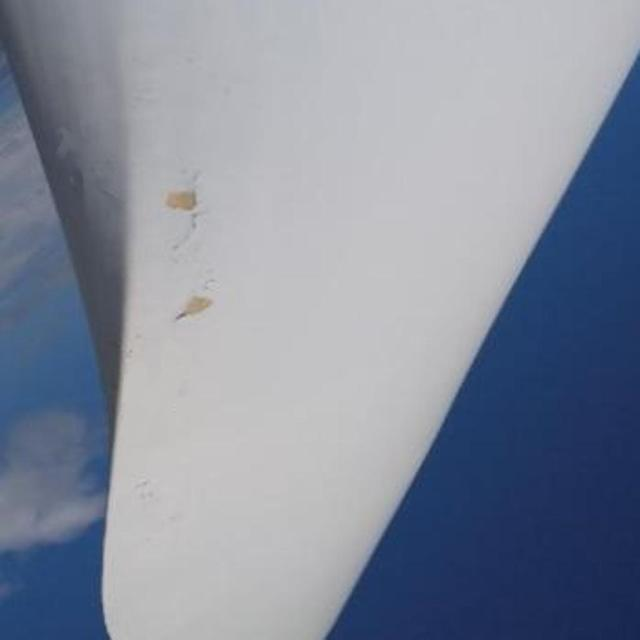surface_peeling: (158, 182, 208, 217), (172, 294, 215, 323)
